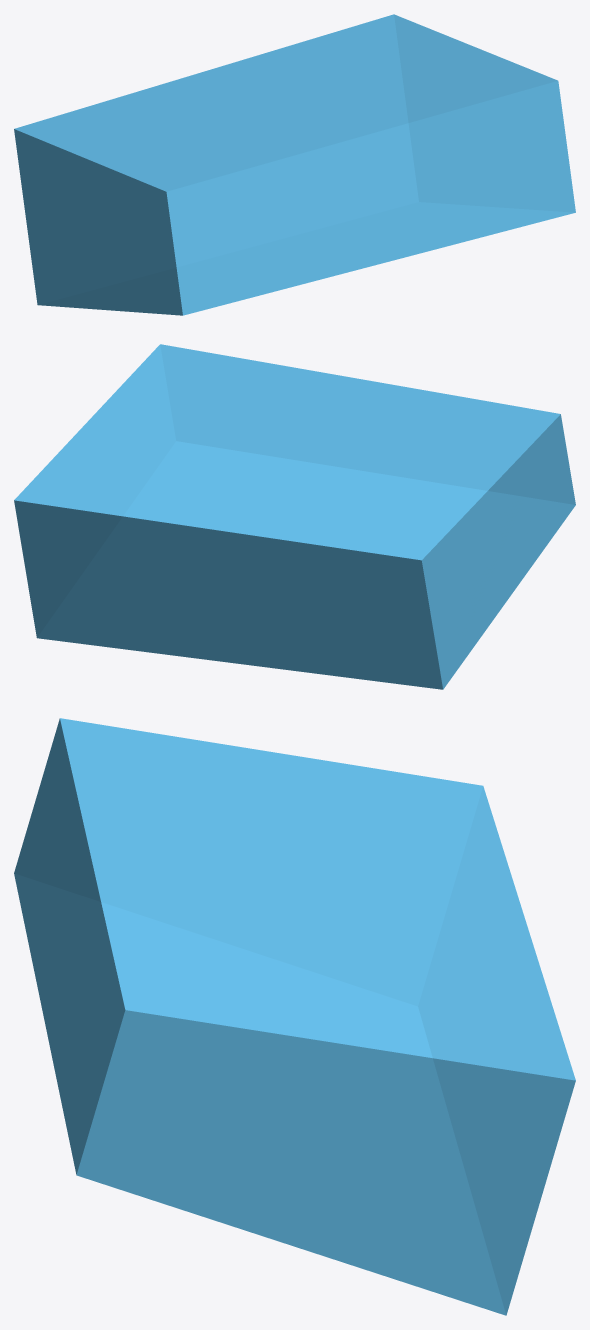
Rendered from Event_421115418_HErechit_118.fbx.
3 renders of one model, top to bottom at view 1: azimuth 30°, elevation 25°; view 2: azimuth 150°, elevation 25°; view 3: azimuth 270°, elevation 25°, orthographic. The views are drawn at different scales.
Visible parts, largest first — view 1: Model; view 2: Model; view 3: Model.
Boxes of the visible parts, left/top/right/bottom form: Model: left=14, top=14, right=575, bottom=315; Model: left=14, top=344, right=575, bottom=689; Model: left=14, top=718, right=575, bottom=1315.
Bounding box in the file's own units: 0.7241 × 0.3811 × 0.611.
